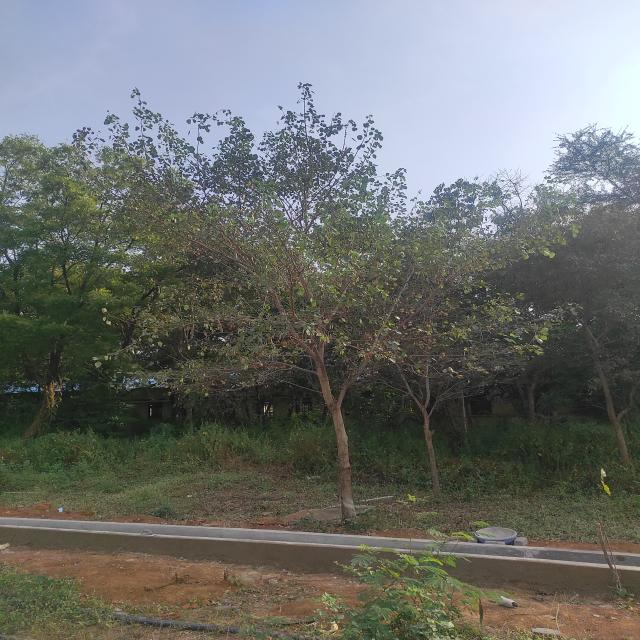Devakanchan tree: (178, 149, 445, 437)
Neem Tree: (15, 148, 152, 450)
